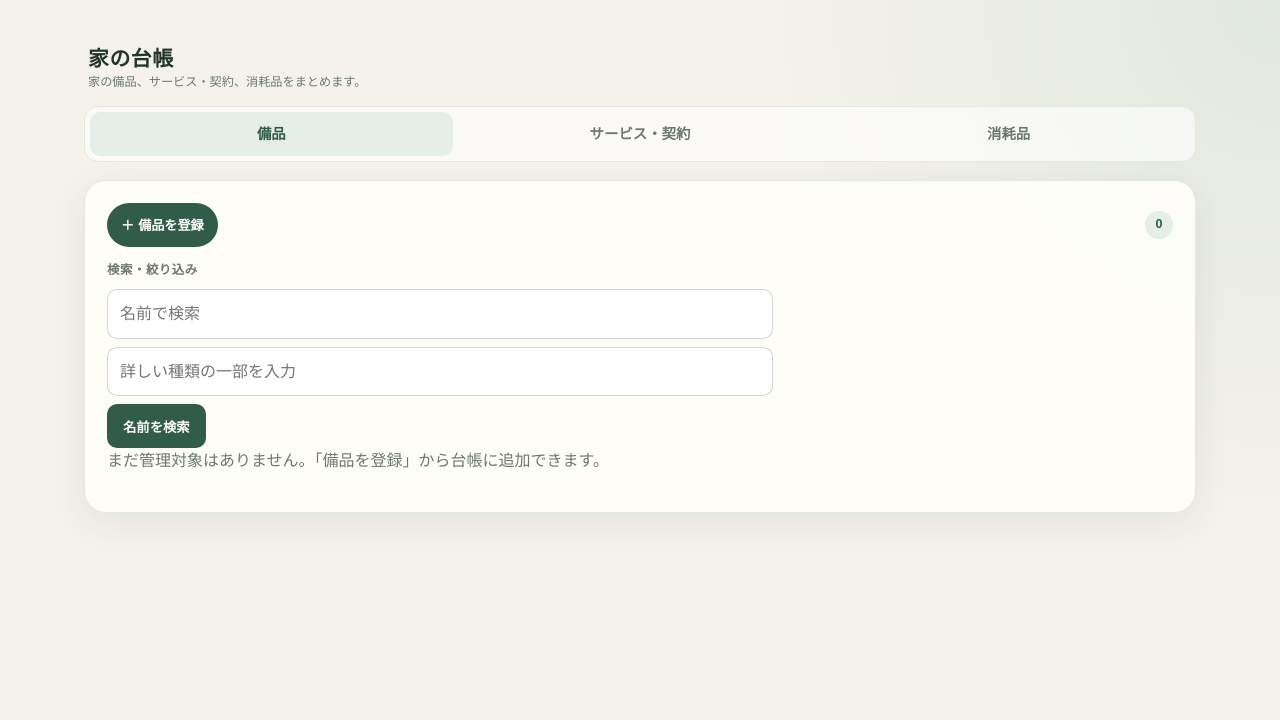
it: 台帳一覧の自由入力(詳しい種類)候補・絞り込み(ManagedItemsPage、Issue #238) › 一致する候補がないときは候補なしを案内する
Type "存在しない種類" into the search field labelled "詳しい種類の一部を入力". click: (440, 372)
box: x1=107 y1=347 x2=773 y2=396
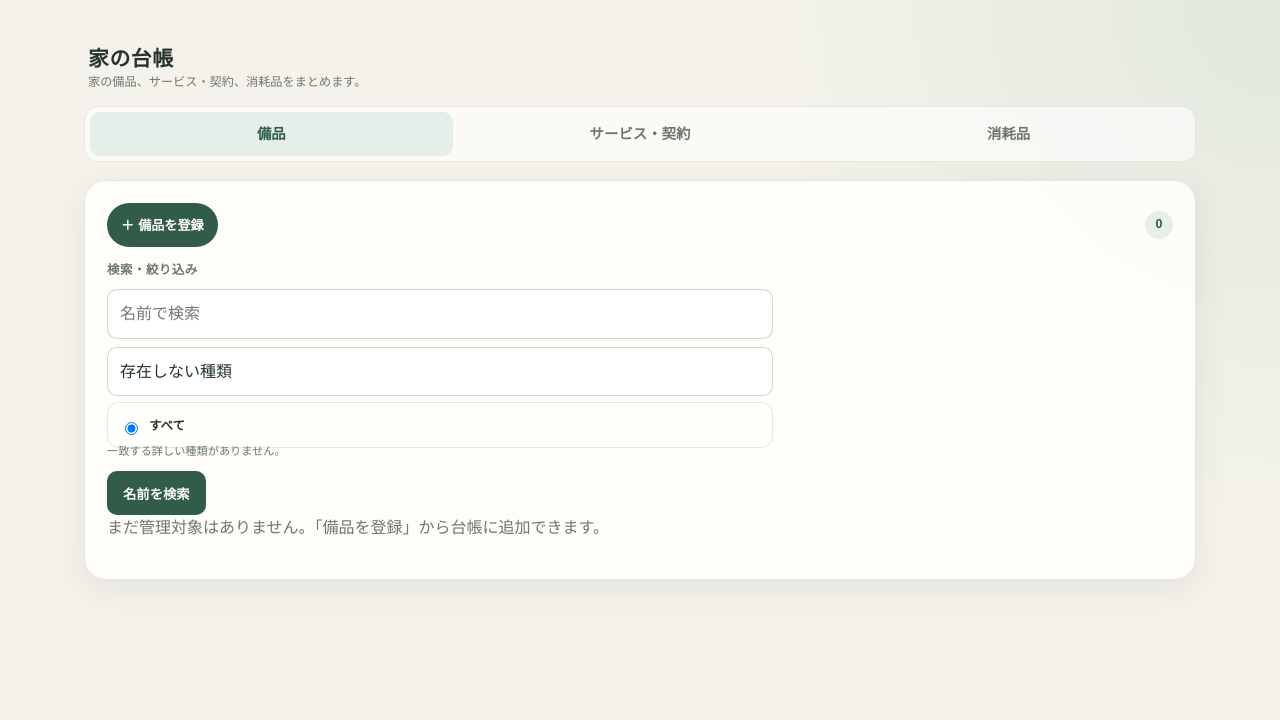
Check: the text "一致する詳しい種類がありません。" is shown, box x1=107 y1=445 x2=286 y2=457
